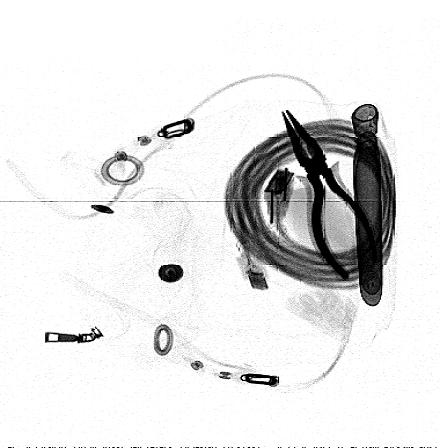Pliers: (279, 108, 382, 284)
